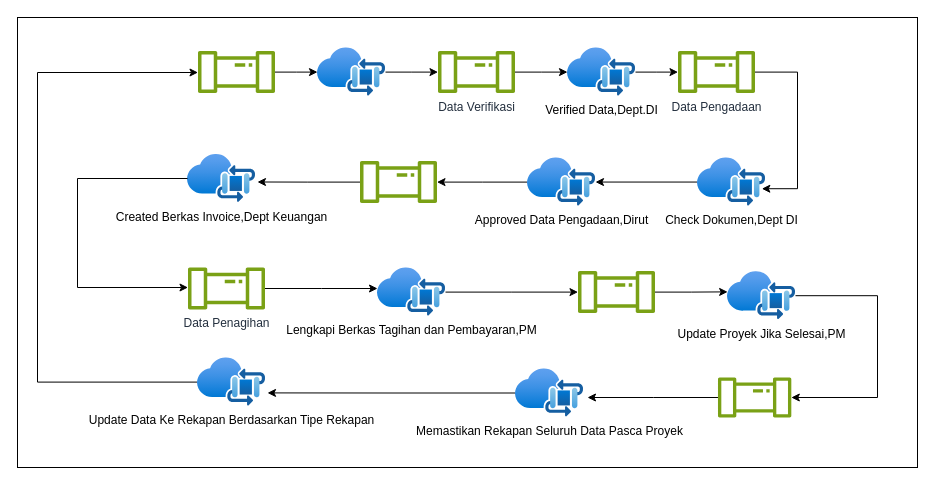
The diagram is 935 pixels wide and 485 high, and some of its shapes have lost their labels. The shapes that lost their labels are listed below. From the top down, each one's box as (x1, y1, x2, y2) in pixels, then its label:
(197, 51, 275, 93): Data Rekanan
(317, 47, 385, 96): Monitoring Data,Dept.DI
(359, 161, 437, 203): Data Kontrak/Blanket
(577, 271, 655, 313): Data Kontrak
(717, 377, 791, 417): Data Proyek Selesai
